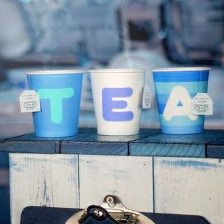paper_cup: (16, 64, 87, 140), (149, 63, 214, 137), (85, 65, 148, 137)
